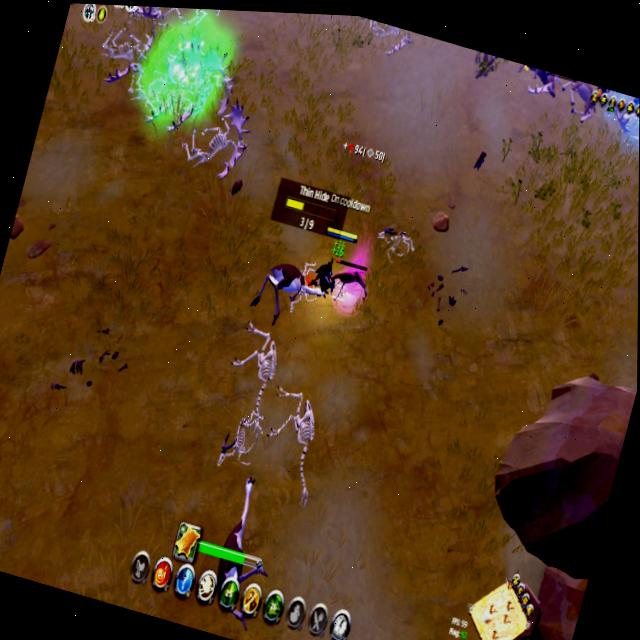mob: (203, 470, 289, 631), (242, 248, 316, 338), (554, 76, 602, 126)
ore: (325, 252, 374, 316)
red: (305, 220, 358, 307)
